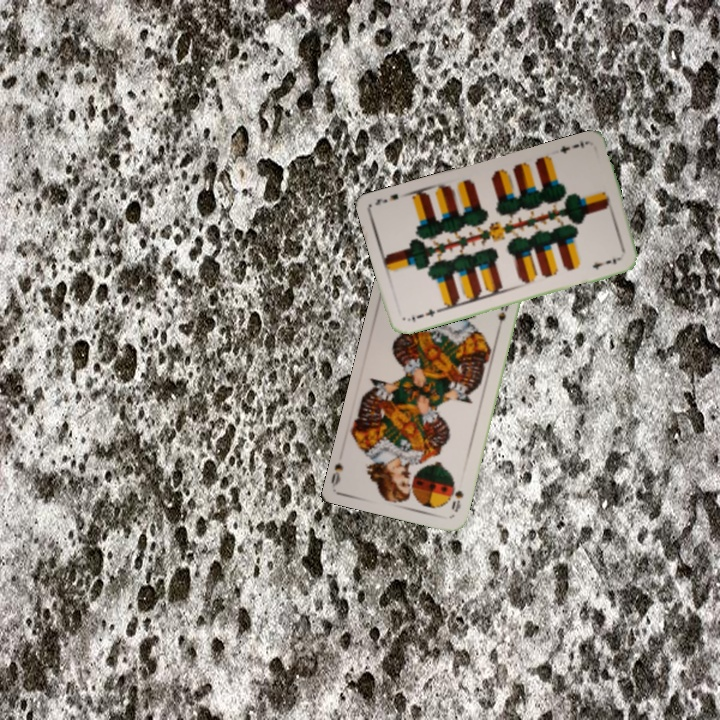E7: (403, 305, 442, 325), (556, 136, 587, 156)
SO: (447, 482, 466, 515)
